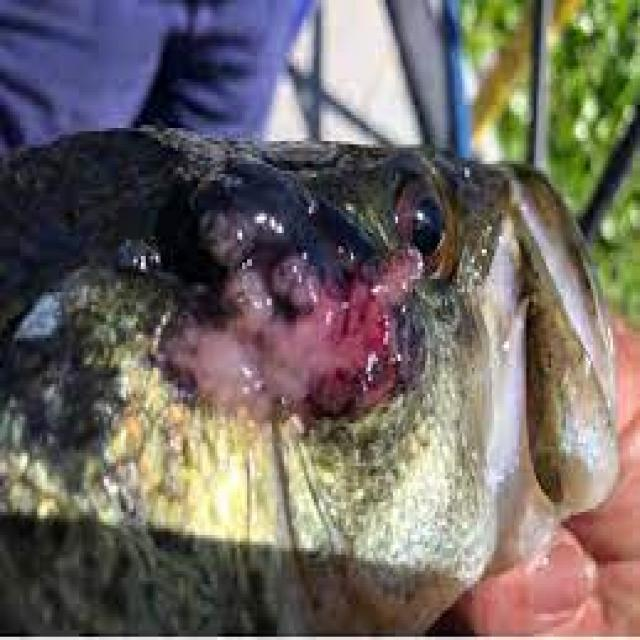EUS Disease: (2, 117, 620, 640), (2, 125, 510, 444)
